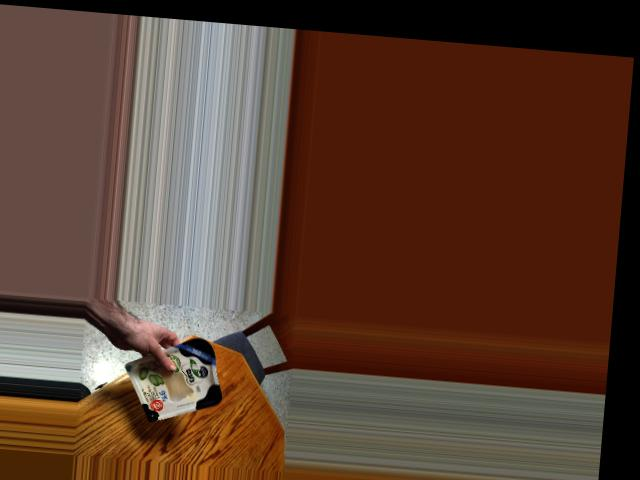cheese: (137, 337, 230, 424)
